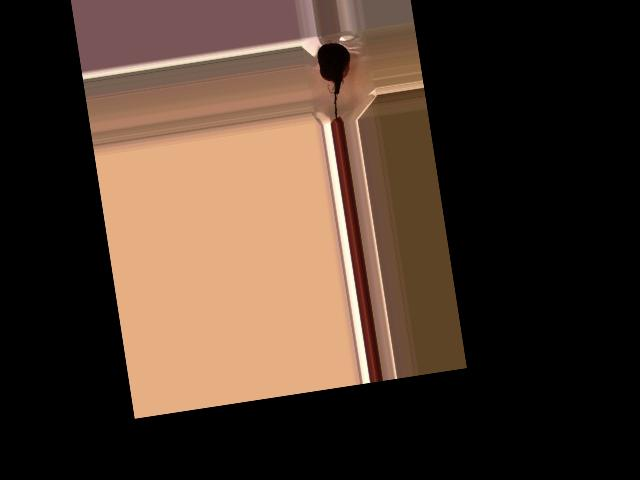beet: (316, 40, 359, 121)
